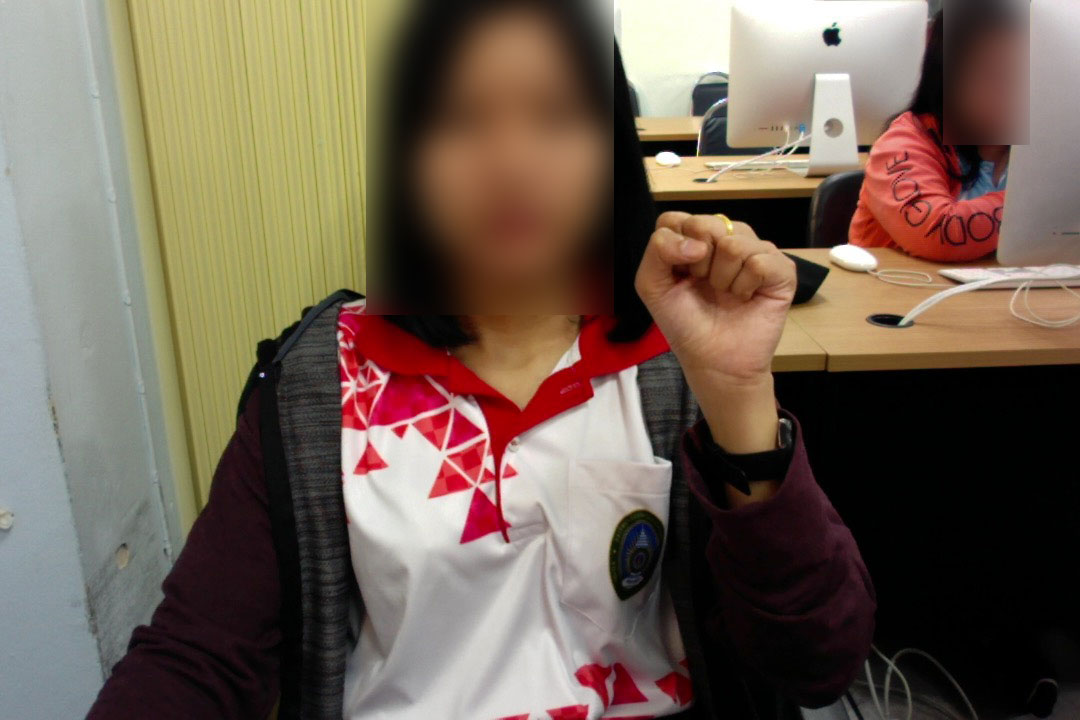sor: (629, 200, 802, 392)
